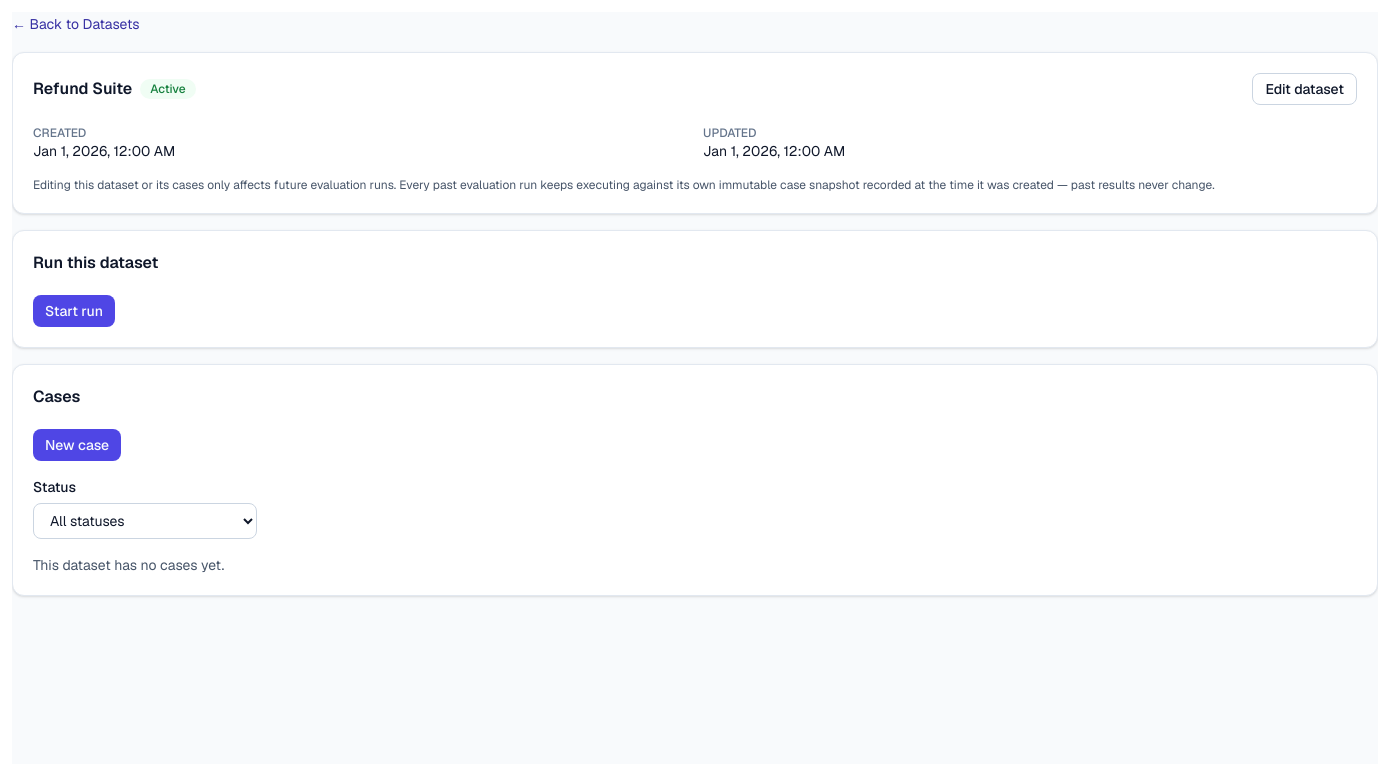
Start Evaluation Run (Phase 23 Chunk 3) › shows an honest message when the selected agent has no published version
Expected: the heading "Refund Suite" is shown, [33,77,132,101]
Click the button "Start run" at (74, 311), box [33,295,115,327]
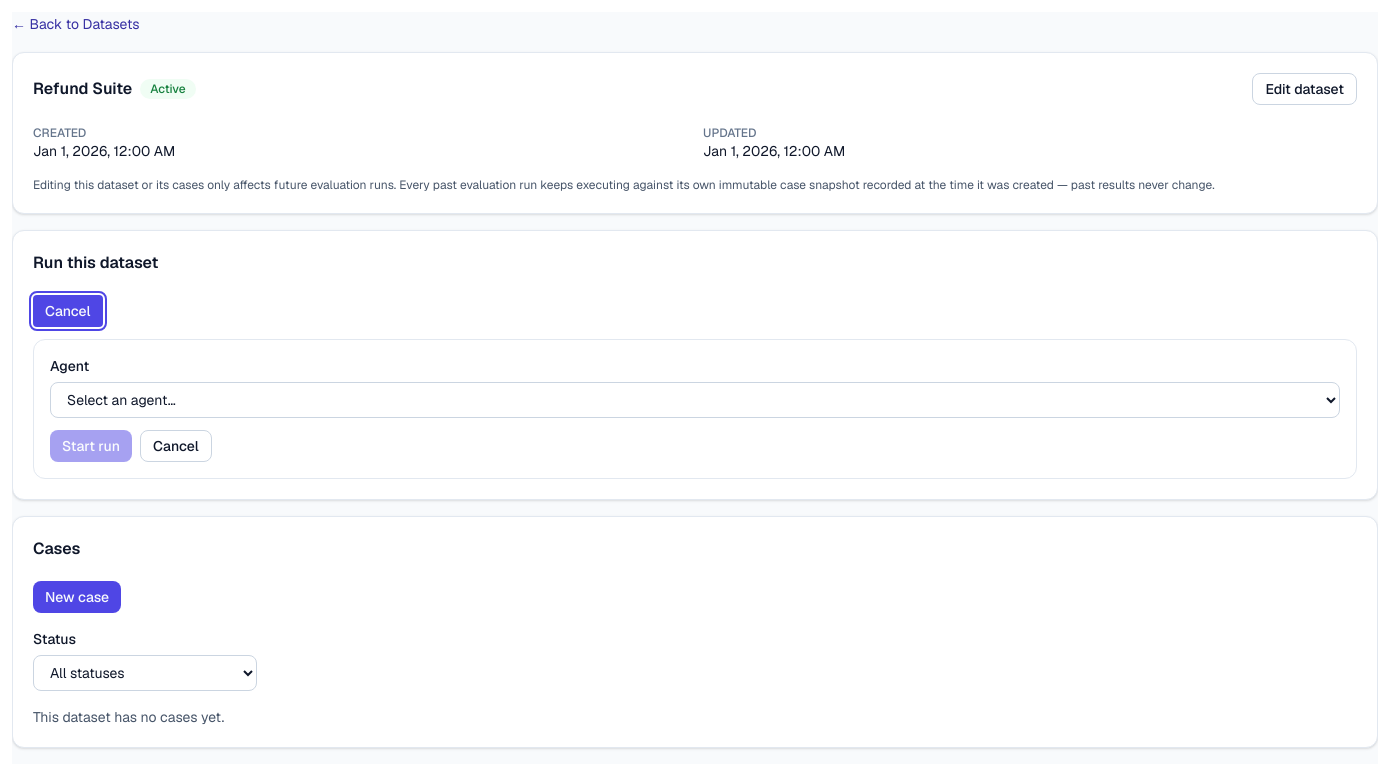
Select "Support Agent" in the dropdown labelled "Agent" at (695, 400), box [50,382,1340,418]
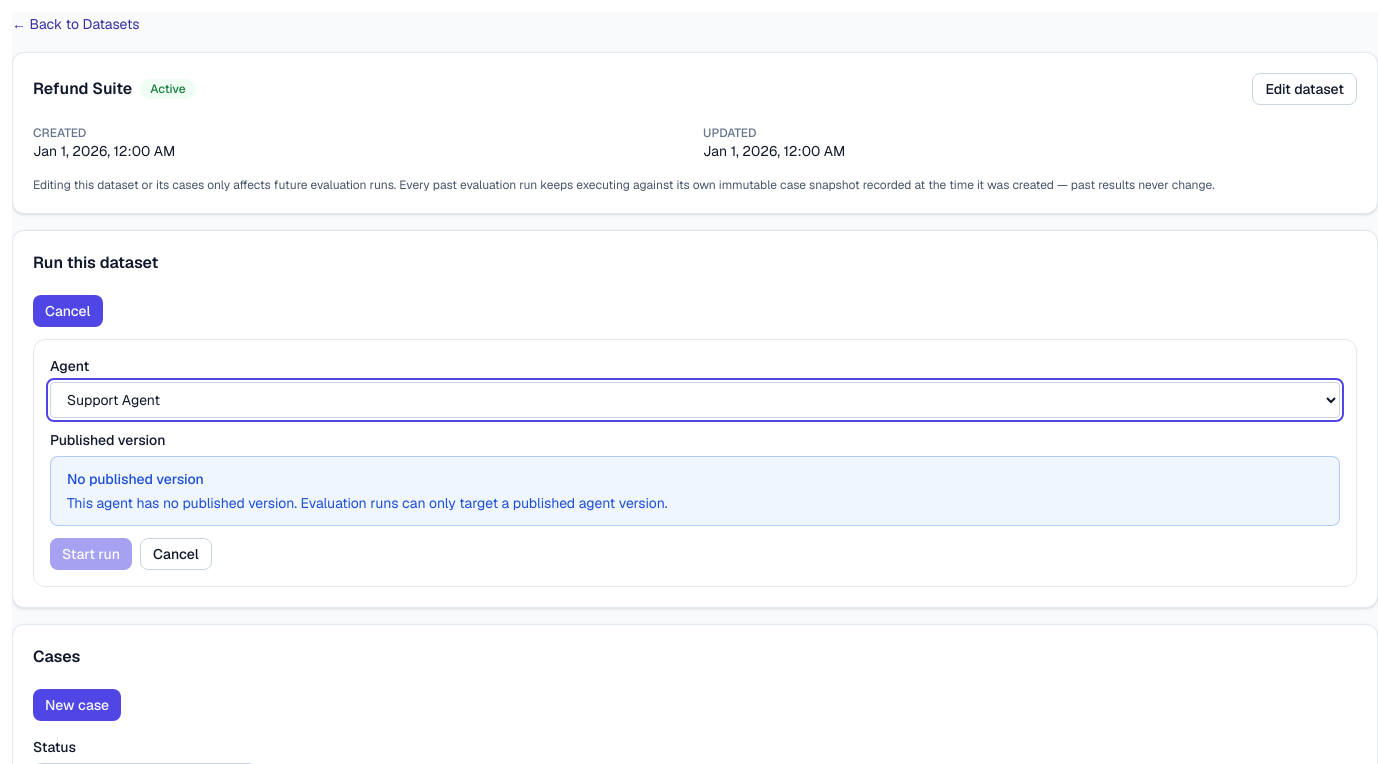
Result: the text "No published version" is shown at [67,470,204,488]
